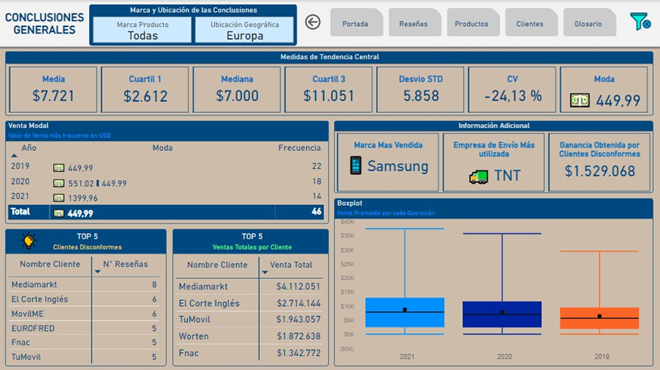

What the dashboard file says about the page in this screenshot:
{"tool":"powerbi","page":{"name":"Conclusiones","canvas":[1280,720],"ordinal":4},"visuals":[{"type":"pageNavigator","box":[640.9,15.5,556.4,55.1],"z":0},{"type":"image","box":[1217.5,17,49.6,49.6],"z":1000},{"type":"textbox","box":[0,15.6,172.9,62.4],"z":2000},{"type":"cardVisual","title":"Medidas de Tendencia Central","fields":{"Data":["DAX Medidas.Venta Promedio MTC","DAX Medidas.Cuartil 1","DAX Medidas.Venta Mediana MTC","DAX Medidas.Cuartil 3","DAX Medidas.Desvio STD","DAX Medidas.CV","DAX Medidas.Venta Moda MTC"]},"box":[9.9,99.2,1257.2,124.7],"z":3000},{"type":"pivotTable","title":"Venta Modal","fields":{"Rows":["Calendario.Año"],"Values":["DAX Medidas.Venta Moda MTC","DAX Medidas.Venta Moda Frecuencia MTC"]},"box":[9.9,233.9,627.9,199.8],"z":4000},{"type":"BoxWhiskerChart1455240051538","title":"Boxplot","fields":{"Groups":["Calendario.Año"],"Values":["DAX Medidas.Venta Promedio MTC"],"Samples":["Ventas Agrupadas.ID Vta Articulos"]},"box":[647.7,384.1,619.4,326],"z":5000},{"type":"actionButton","box":[586.8,22.7,51,39.7],"z":6000},{"type":"tableEx","title":"TOP 5","fields":{"Values":["Clientes.Nombre Cliente","DAX Medidas.Disconformes"]},"box":[9.9,443.6,313.2,266.5],"z":7000},{"type":"image","box":[32.6,443.6,46.8,43.9],"z":8000},{"type":"cardVisual","title":"Información Adicional","fields":{"Data":["DAX Medidas.Marca Mas Vendida","DAX Medidas.Empresa de Envio Mas utilizada","DAX Medidas.Ganancia Obtenida con Disconformidad"]},"box":[647.9,234.5,619.3,140.2],"z":9000},{"type":"cardVisual","title":"Marca y Ubicación de las Conclusiones","fields":{"Data":["DAX Medidas.Titulo Marca Producto","DAX Medidas.Titulo Ubicación Geográfica"]},"box":[173.1,8.6,403.3,80.1],"z":10000},{"type":"tableEx","title":"TOP 5","fields":{"Values":["Clientes.Nombre Cliente","DAX Medidas.Venta Total Desglosada por Gama"]},"box":[334.5,443.6,303.3,266.5],"z":11000}]}

Visuals, with their boxes in screenshot pixels (x1, y1, x2, y2), scaled from the page's 1280x720 canvas onto the 660x370 screenshot:
pageNavigator: [330, 8, 617, 36]
image: [628, 9, 653, 34]
textbox: [0, 8, 89, 40]
"Medidas de Tendencia Central" cardVisual: [5, 51, 653, 115]
"Venta Modal" pivotTable: [5, 120, 329, 223]
"Boxplot" BoxWhiskerChart1455240051538: [334, 197, 653, 365]
actionButton: [303, 12, 329, 32]
"TOP 5" tableEx: [5, 228, 167, 365]
image: [17, 228, 41, 251]
"Información Adicional" cardVisual: [334, 121, 653, 193]
"Marca y Ubicación de las Conclusiones" cardVisual: [89, 4, 297, 46]
"TOP 5" tableEx: [172, 228, 329, 365]
